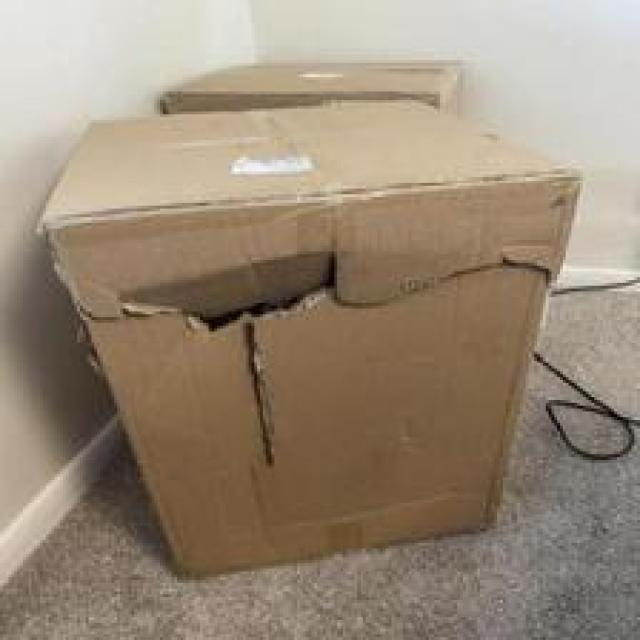tear: (134, 253, 341, 476)
